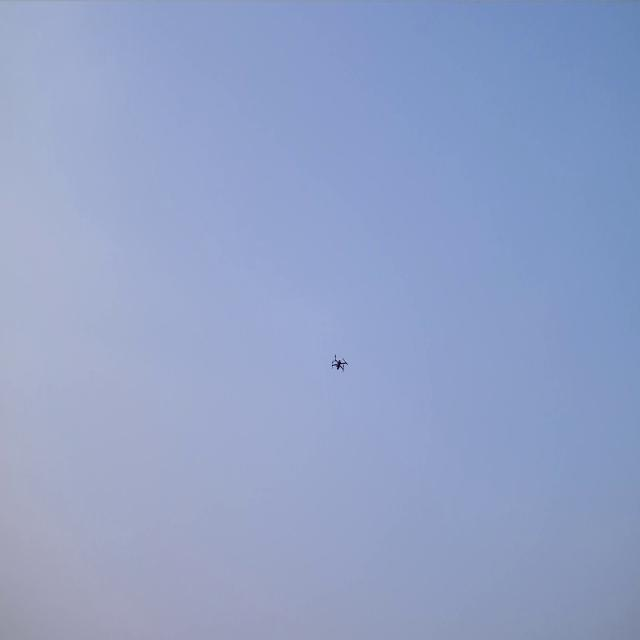UAV: (331, 354, 348, 373)
